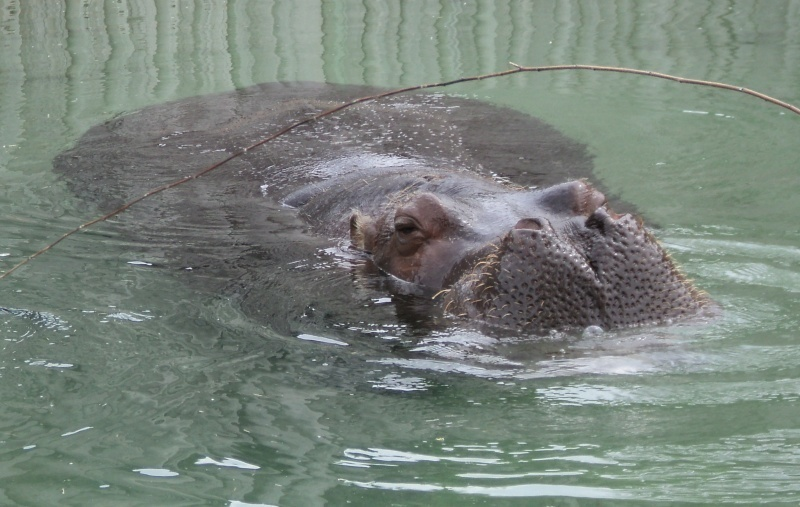hipopotamo: (161, 86, 745, 386)
